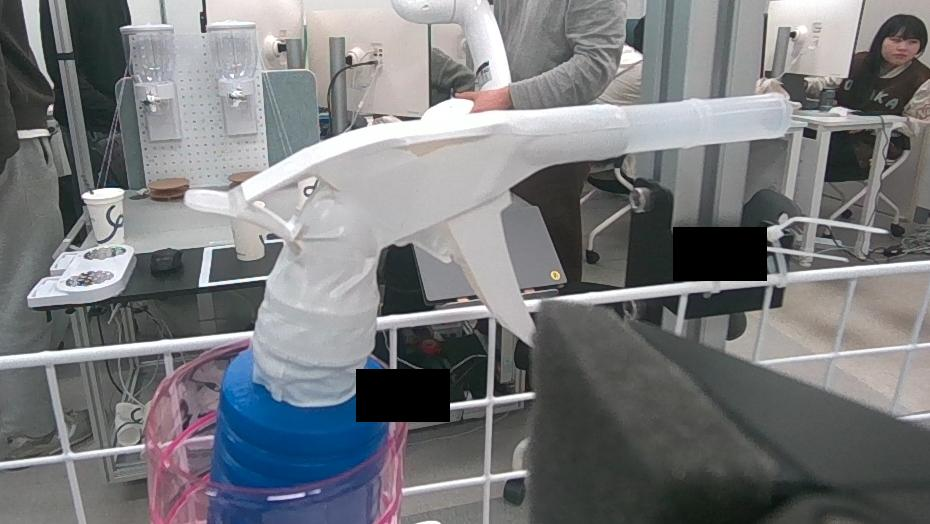Nozzle: (172, 98, 632, 524)
